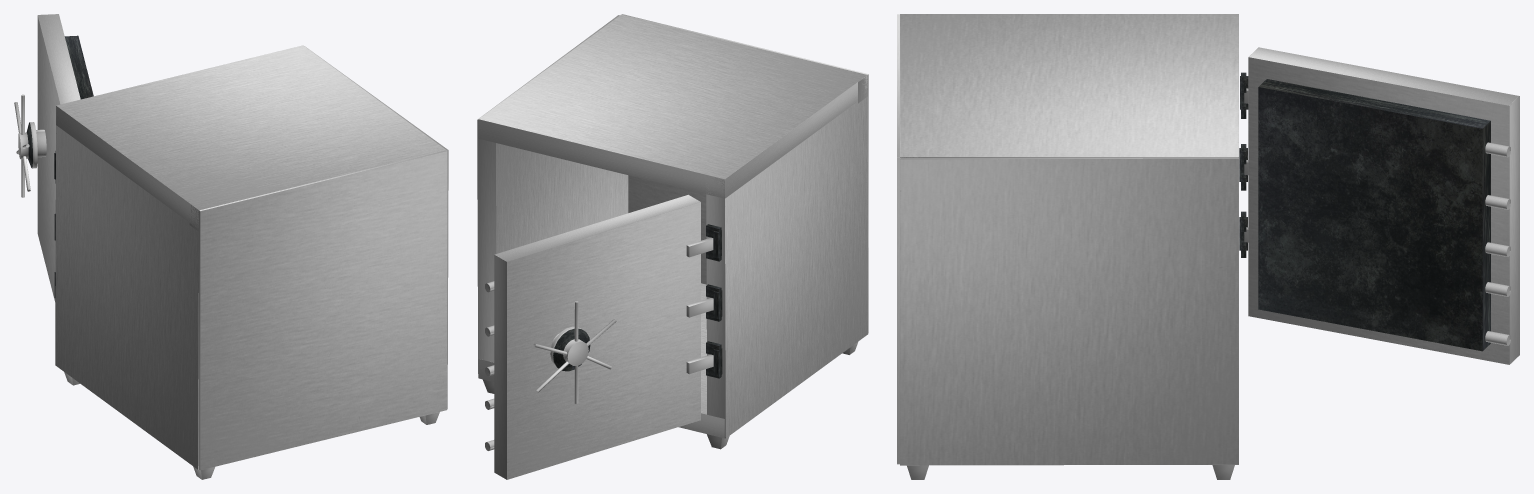
Rendered from lock.glb.
The picture shows the model from 3 angles, left to right: view 1: azimuth 30°, elevation 25°; view 2: azimuth 150°, elevation 25°; view 3: azimuth 270°, elevation 25°; orthographic projection. The views are drawn at different scales.
Parts seen in each view (by area): view 1: Box005, Box002, Box003, Box006, Box020, Cylinder007, Box004; view 2: Box006, Box002, Box003, Box004, Box005, Box001, Cylinder007, Box015; view 3: Box004, Box020, Box002, Box006, Box005.
Part boxes in pixels (x1,y1,x2,y2): Box005: (189,150,447,470); Box002: (56,45,445,228); Box003: (55,125,198,469); Box006: (37,14,80,301); Box020: (64,35,93,99); Cylinder007: (18,122,37,168); Box004: (305,46,448,408); Box006: (494,194,700,479); Box002: (478,15,867,198); Box003: (706,97,868,438); Box004: (477,15,628,373); Box005: (621,14,868,332); Box001: (478,283,724,438); Cylinder007: (550,326,590,371); Box015: (482,342,857,449); Box004: (900,158,1238,465); Box020: (1258,79,1490,351); Box002: (900,14,1238,157); Box006: (1248,47,1519,364); Box005: (897,14,922,464).
Size of the model in its own units: 20.18 by 21.18 by 36.64.
5 materials, 3 textured.
